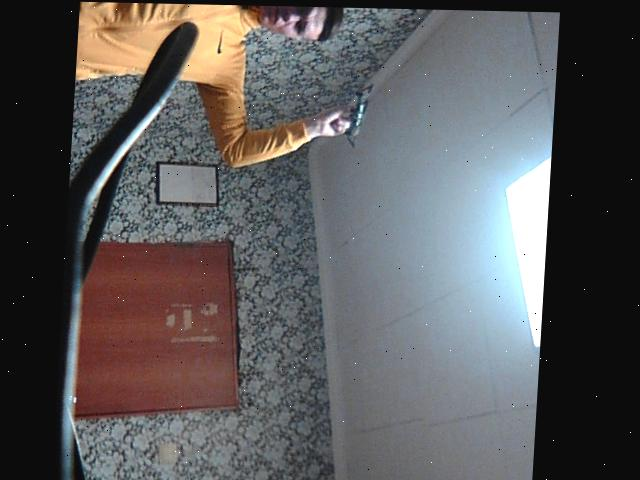drone: (345, 73, 377, 146)
